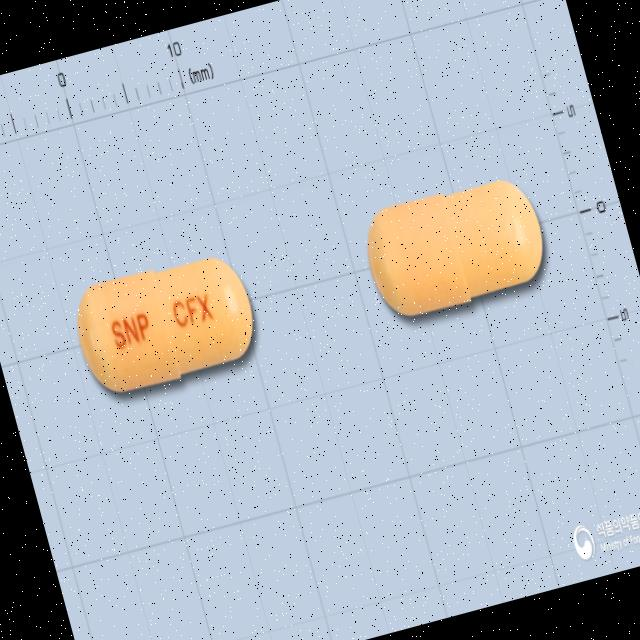A Progen Cefixime Cap: (354, 164, 558, 328), (65, 242, 266, 404)
